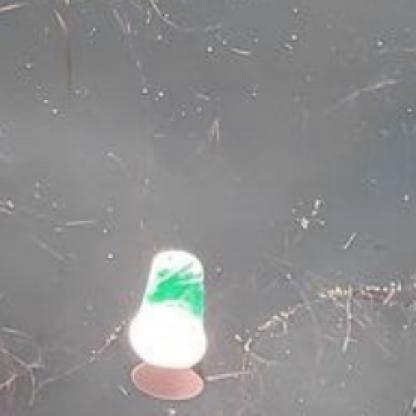Plastic: (128, 243, 216, 371)
